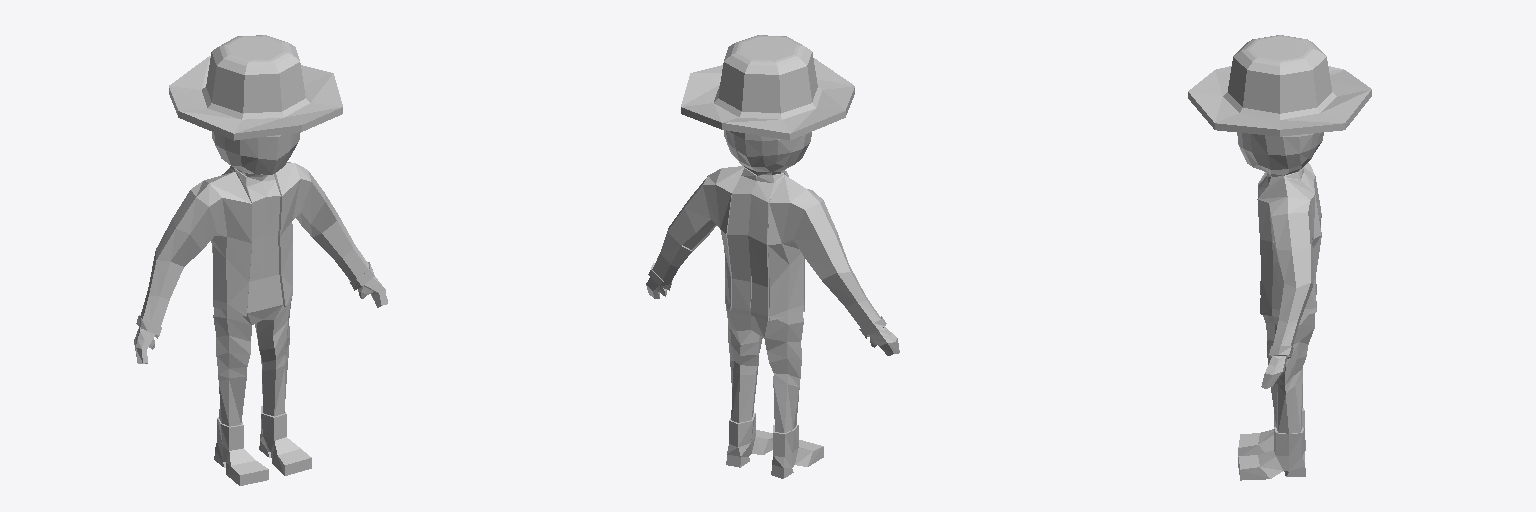
The model's file is PersonModel.obj.
3 renders of one model, left to right at view 1: azimuth 30°, elevation 25°; view 2: azimuth 150°, elevation 25°; view 3: azimuth 270°, elevation 25°, orthographic.
Visible parts, largest first — view 1: Cube_Cube.001; view 2: Cube_Cube.001; view 3: Cube_Cube.001.
Part boxes in pixels (bbox=[...]): Cube_Cube.001: bbox=[134, 35, 387, 485]; Cube_Cube.001: bbox=[646, 35, 899, 478]; Cube_Cube.001: bbox=[1188, 35, 1371, 480].
Size of the model in its own units: 9.55 by 15.1 by 6.07.